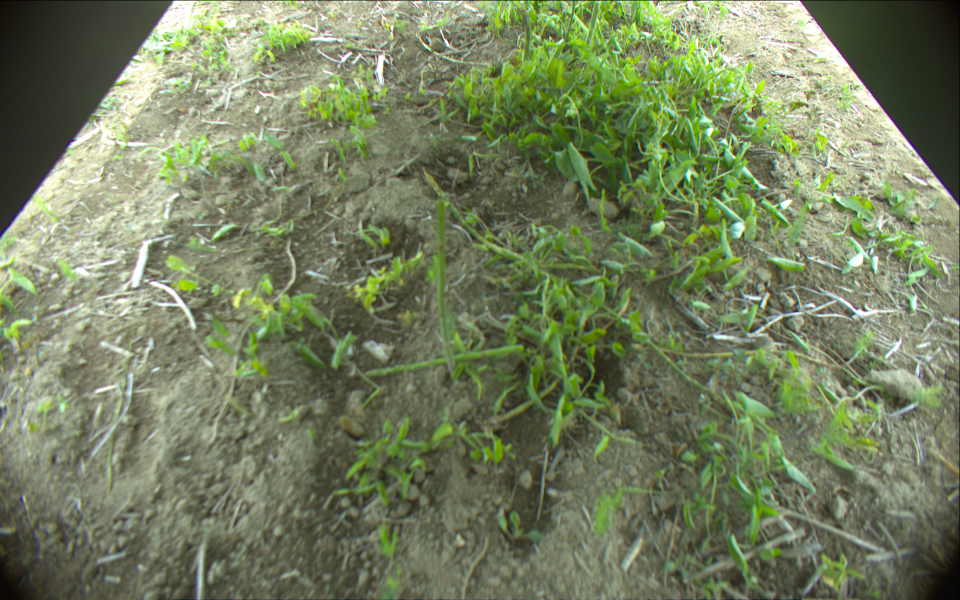aspa: (425, 165, 523, 260), (357, 344, 525, 377), (434, 201, 458, 377), (415, 35, 494, 67), (520, 8, 532, 61), (563, 1, 576, 41), (588, 1, 599, 42)
